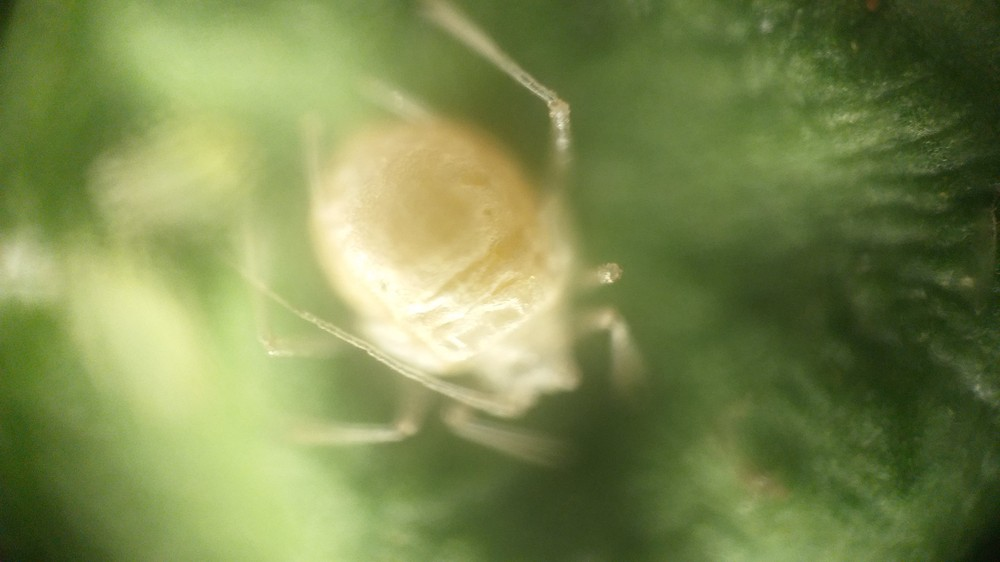Pulgon: (222, 8, 684, 476)
